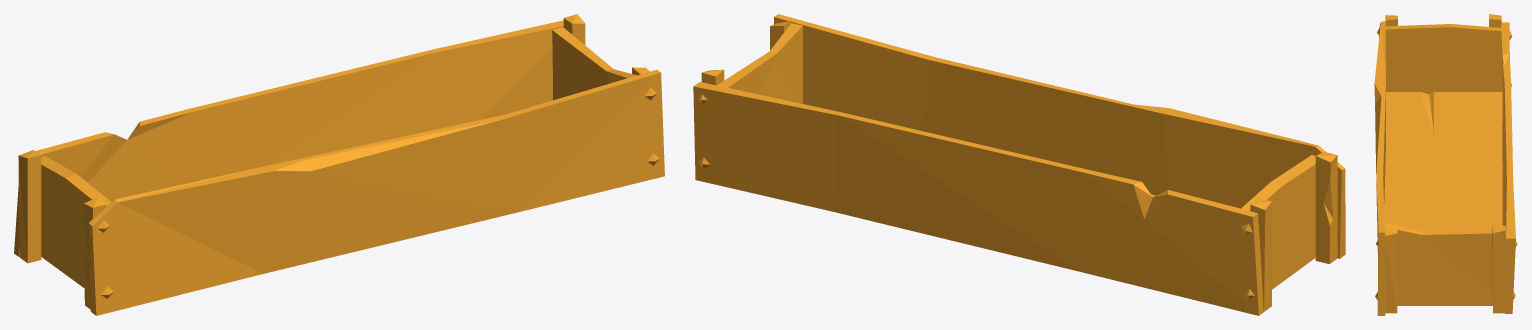
File: SM_Trough_Wood.fbx
The picture shows the model from 3 angles, left to right: view 1: azimuth 30°, elevation 25°; view 2: azimuth 150°, elevation 25°; view 3: azimuth 270°, elevation 25°; orthographic projection. The views are drawn at different scales.
Visible parts, largest first — view 1: trough-wood; view 2: trough-wood; view 3: trough-wood.
Boxes of the visible parts, <box> form: trough-wood: <box>14,14,664,315</box>; trough-wood: <box>693,14,1345,315</box>; trough-wood: <box>1374,14,1517,315</box>.
Size of the model in its own units: 1.86 by 0.3316 by 0.5106.
